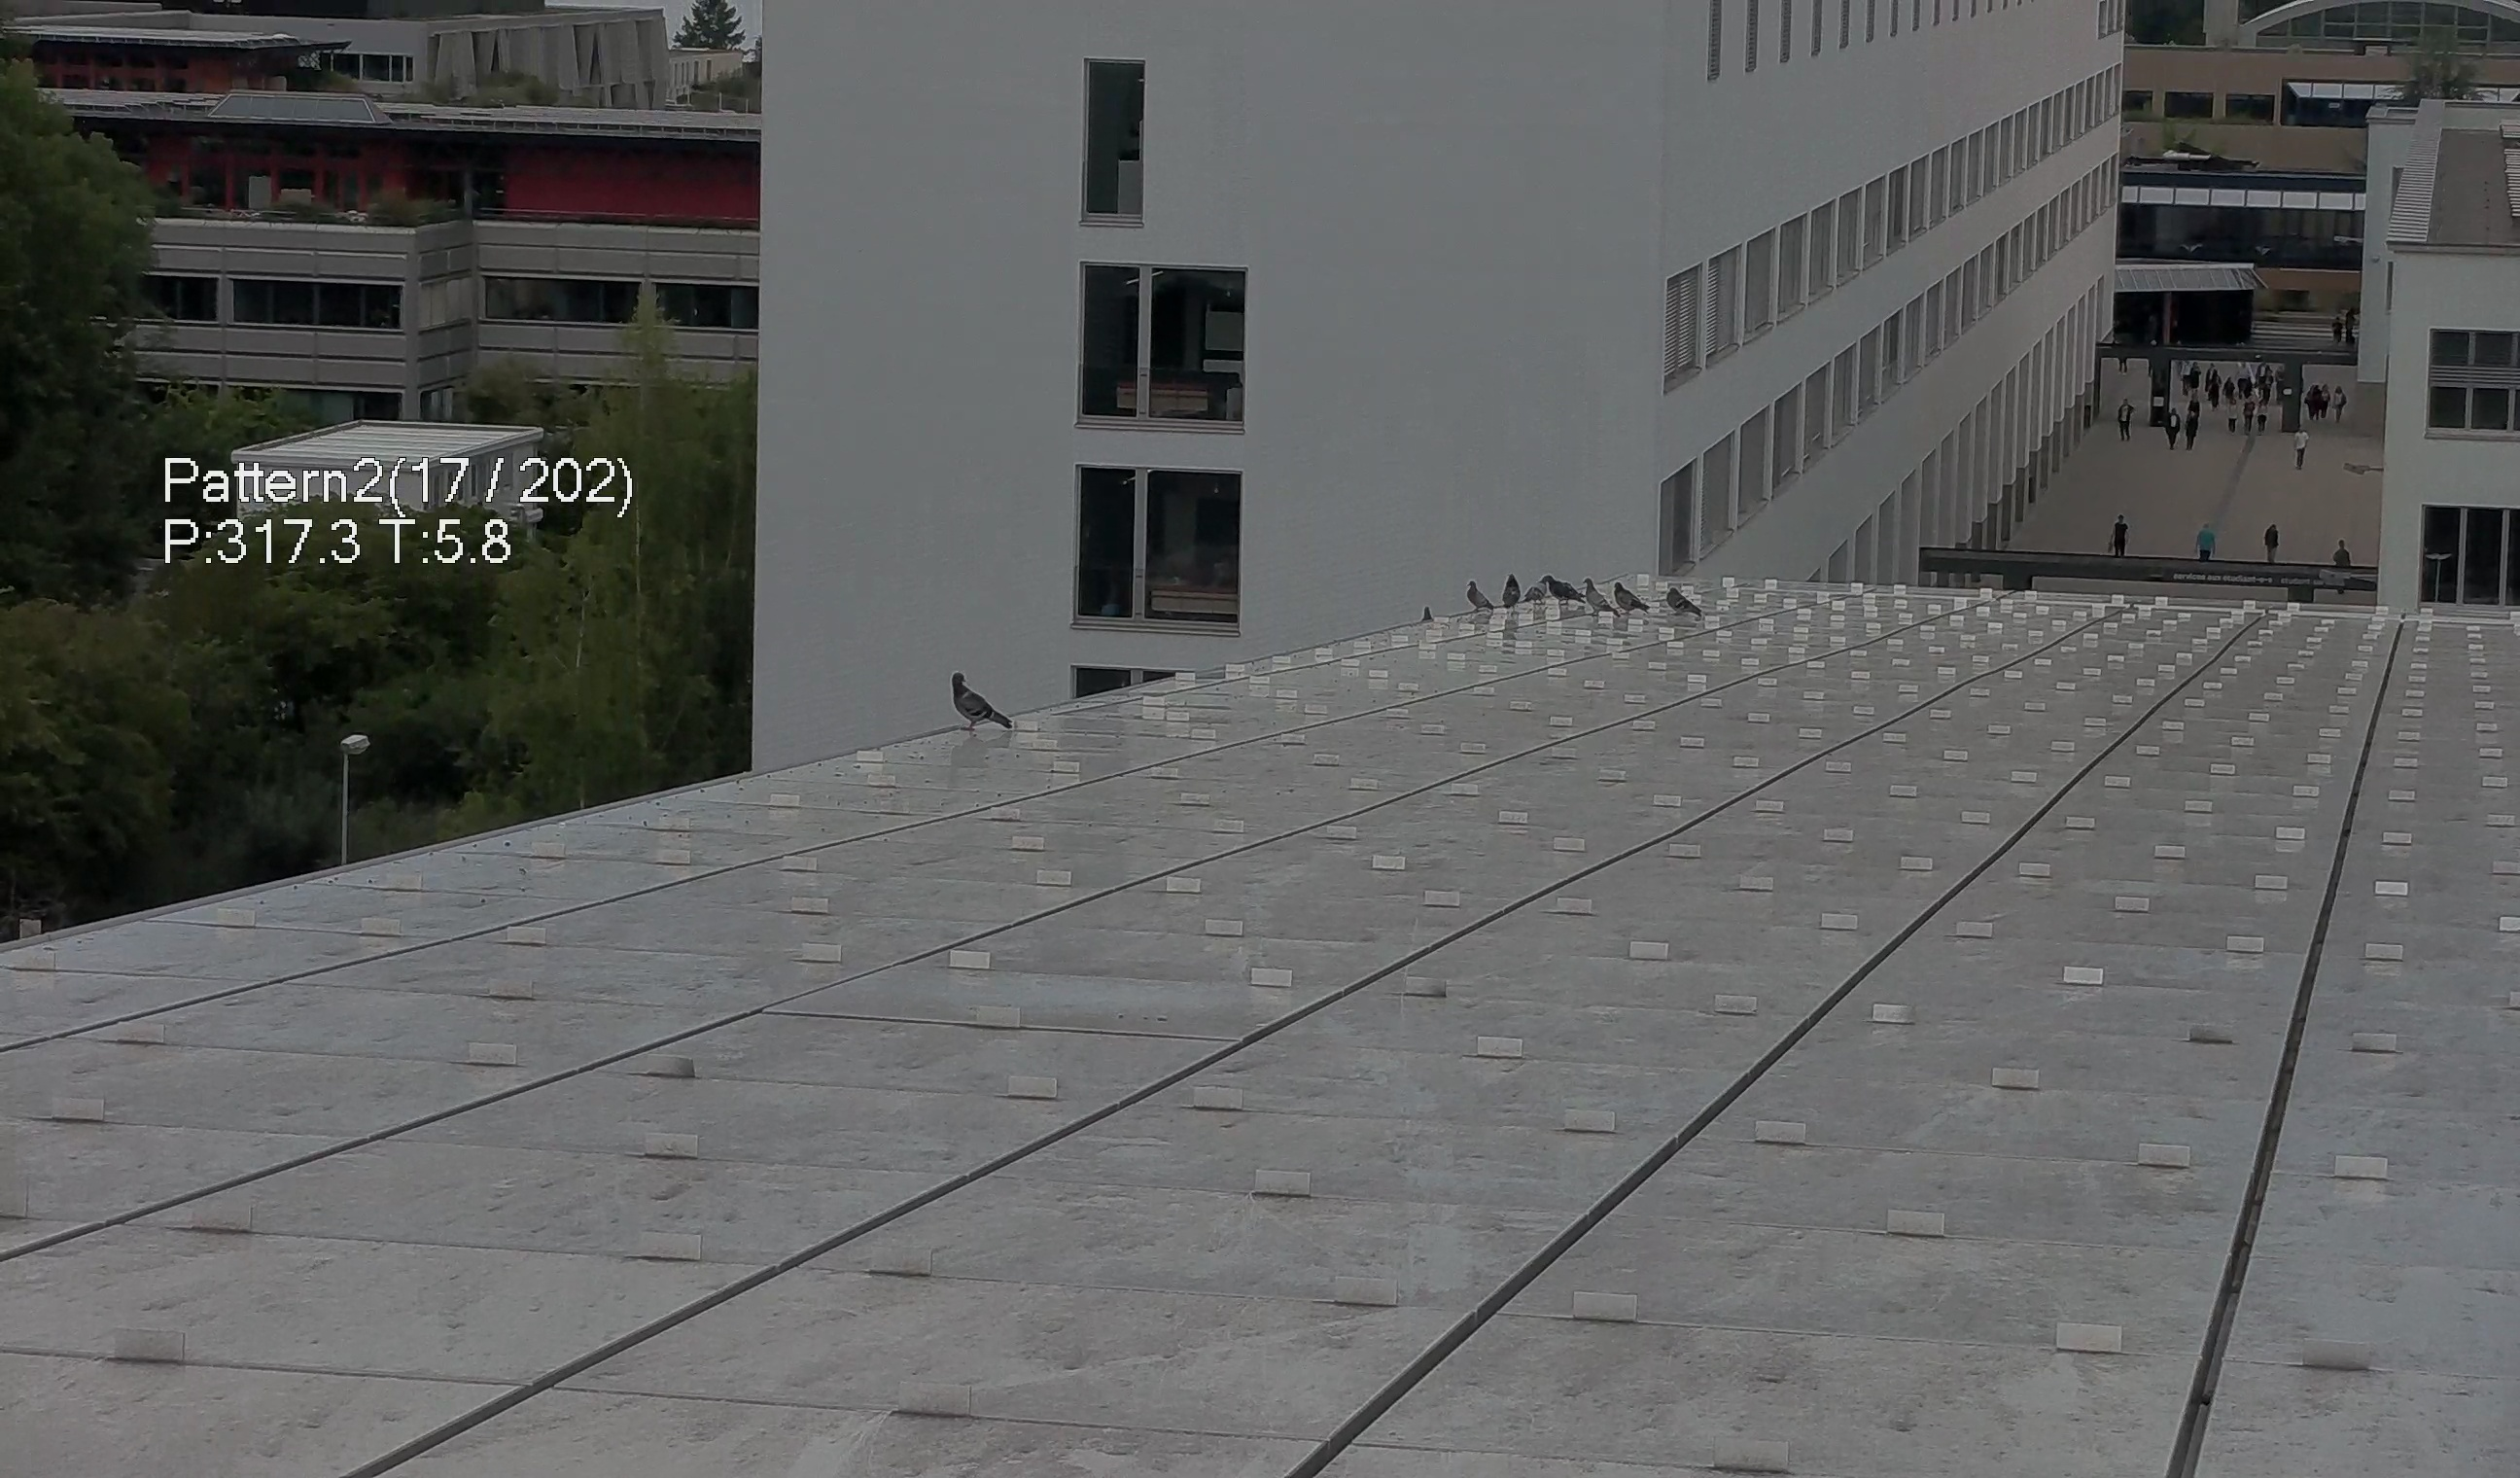Pigeon: (936, 655, 1029, 743), (1664, 584, 1713, 630), (1607, 579, 1653, 618), (1579, 574, 1620, 616), (1548, 575, 1588, 605), (1498, 568, 1525, 614), (1463, 579, 1500, 611), (1521, 575, 1549, 611), (1414, 604, 1438, 625)
